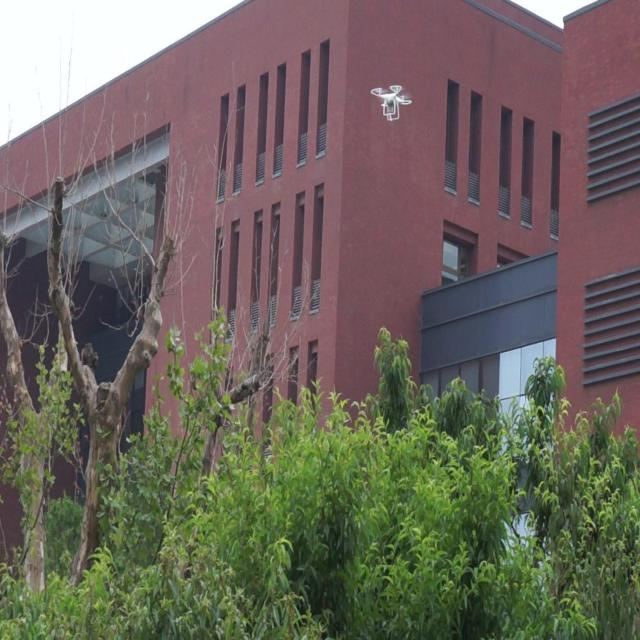UAV: (370, 85, 411, 121)
